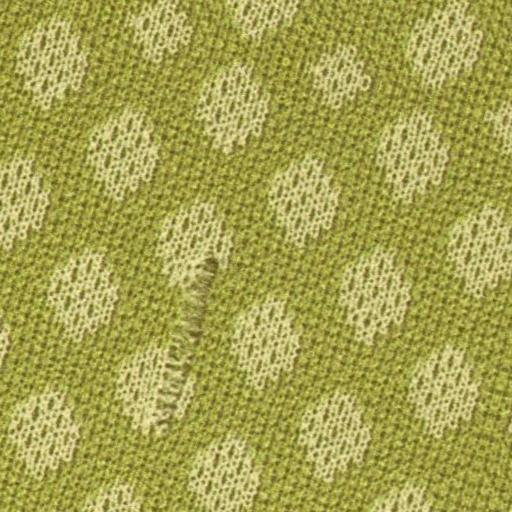slub: (144, 239, 218, 433)
